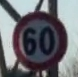limite 60: (13, 8, 67, 71)
